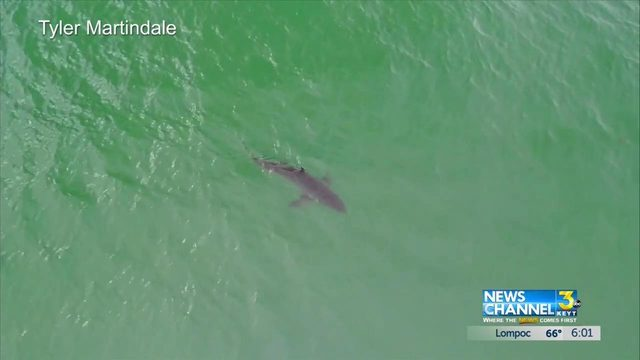shark: (233, 135, 352, 220)
